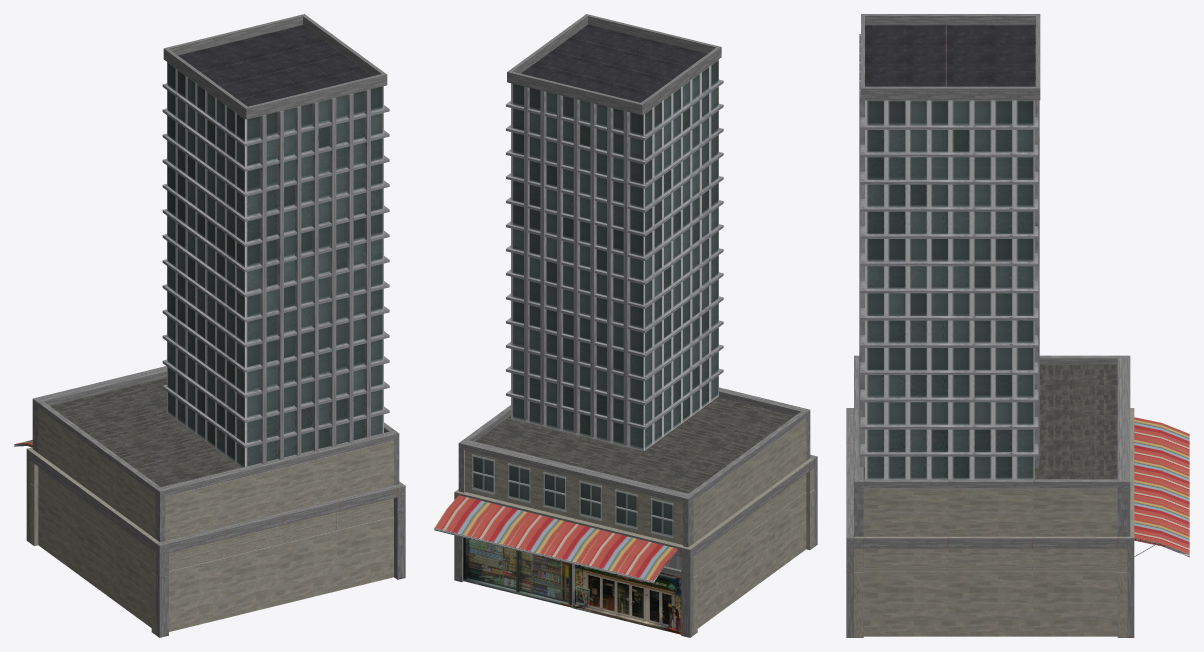
3 views of the same model, side by side, from view 1: azimuth 30°, elevation 25°; view 2: azimuth 150°, elevation 25°; view 3: azimuth 270°, elevation 25° (orthographic). The views are drawn at different scales.
Parts seen in each view (by area): view 1: bina.011; view 2: bina.011; view 3: bina.011.
Boxes of the visible parts, box(x1,y1,x2,y2) form: bina.011: box(14, 14, 405, 637); bina.011: box(434, 14, 817, 637); bina.011: box(846, 14, 1189, 637).
Size of the model in its own units: 18.2 by 35.41 by 20.29.
Materials: 1 (1 with a texture image).
